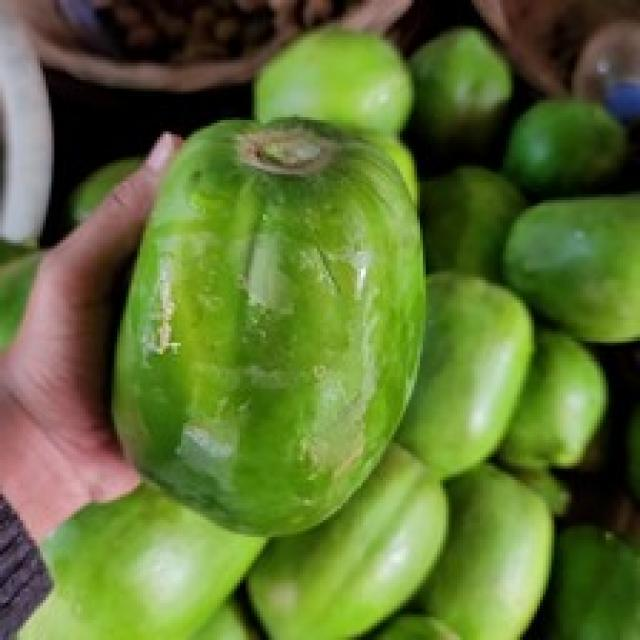Pepaya unrippen: (115, 113, 402, 530)
